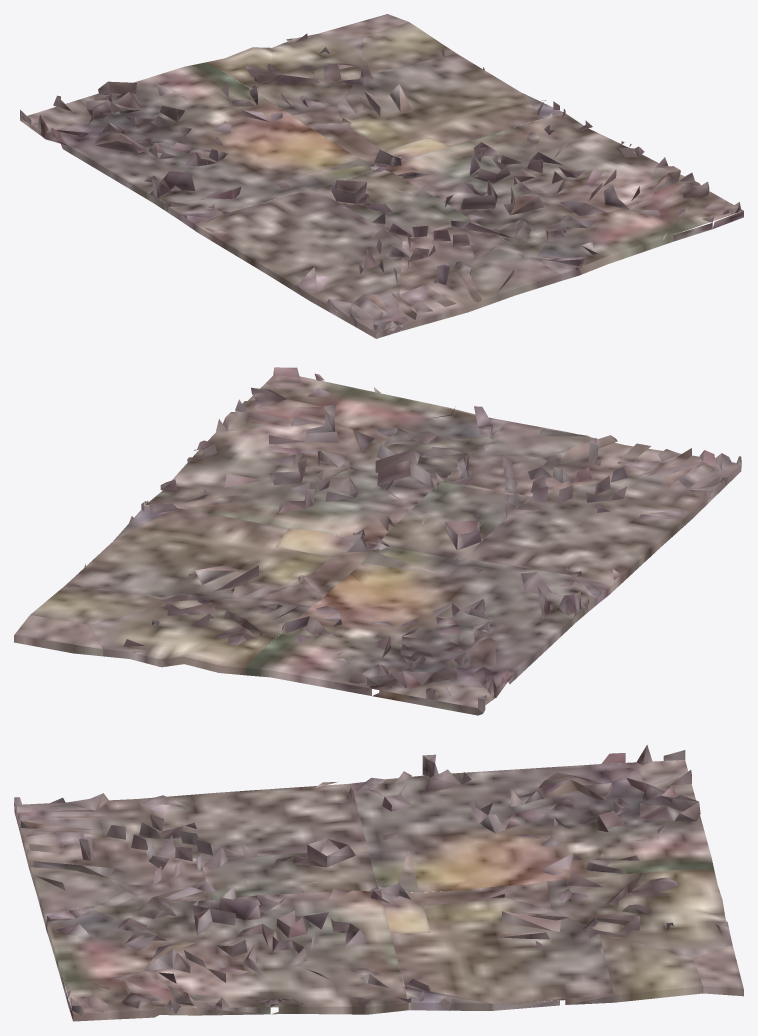
3 renders of one model, top to bottom at view 1: azimuth 30°, elevation 25°; view 2: azimuth 150°, elevation 25°; view 3: azimuth 270°, elevation 25°, orthographic. The views are drawn at different scales.
Parts seen in each view (by area): view 1: Mesh_0; view 2: Mesh_0; view 3: Mesh_0.
Boxes of the visible parts, x1,y1,x2,y2 form: Mesh_0: [20, 14, 743, 338]; Mesh_0: [14, 367, 741, 715]; Mesh_0: [14, 745, 743, 1021].
Size of the model in its own units: 1080 by 78.91 by 1319.
1 material, 1 textured.
